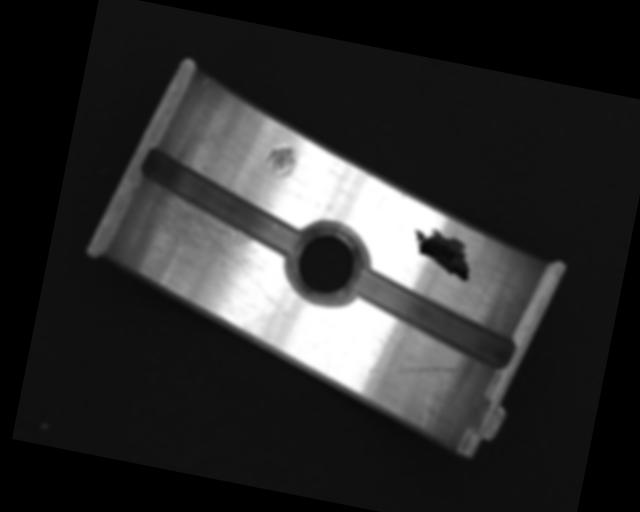blot: (405, 224, 477, 284)
bruise: (262, 142, 300, 182)
gap: (130, 148, 311, 258), (342, 267, 522, 371)
hole: (282, 220, 371, 308)
nick: (366, 348, 461, 392)
scratch: (116, 186, 291, 305)
